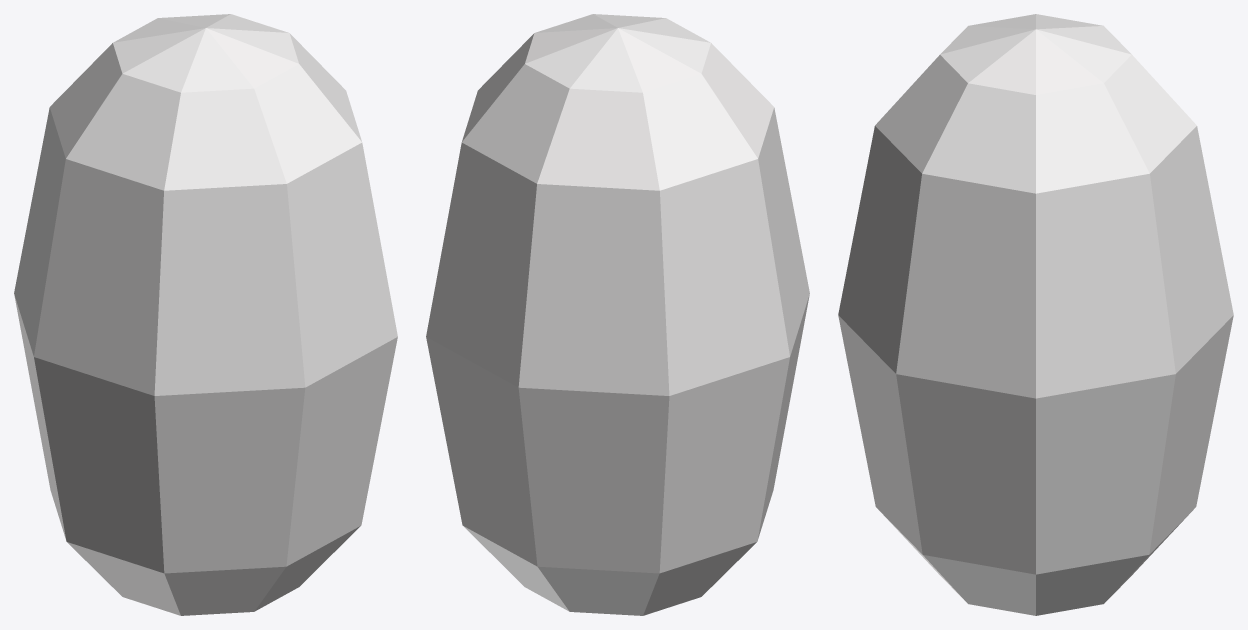
File: TurtleEgg.fbx
The picture shows the model from 3 angles, left to right: view 1: azimuth 30°, elevation 25°; view 2: azimuth 150°, elevation 25°; view 3: azimuth 270°, elevation 25°; orthographic projection.
Visible parts, largest first — view 1: TortugaEgg; view 2: TortugaEgg; view 3: TortugaEgg.
Boxes of the visible parts, box(x1,y1,x2,y2) form: TortugaEgg: box(14, 14, 397, 615); TortugaEgg: box(426, 14, 809, 615); TortugaEgg: box(838, 14, 1233, 615).
Size of the model in its own units: 4.79 by 7.64 by 4.79.
